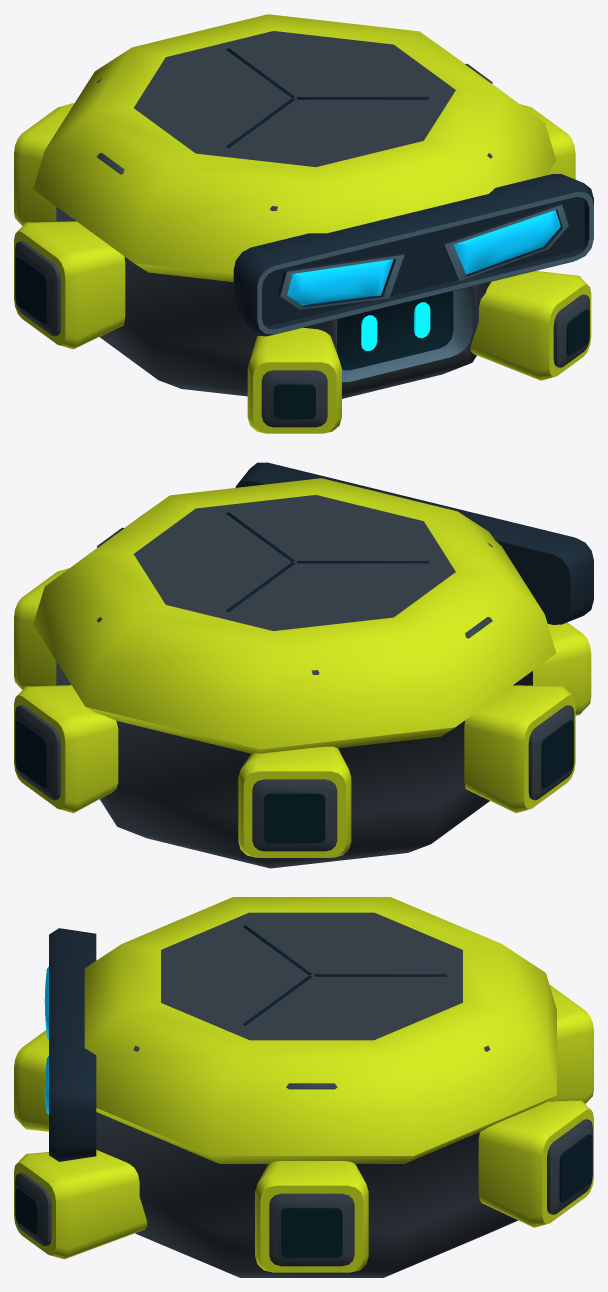
The model's file is copilot_linter_v01.glb.
3 views of the same model, one above another, from view 1: azimuth 30°, elevation 25°; view 2: azimuth 150°, elevation 25°; view 3: azimuth 270°, elevation 25° (orthographic).
Visible parts, largest first — view 1: linter_agent_model; view 2: linter_agent_model; view 3: linter_agent_model.
Part boxes in pixels (x1,y1,x2,y2): linter_agent_model: (14, 14, 593, 433); linter_agent_model: (14, 462, 593, 868); linter_agent_model: (14, 897, 593, 1277).
Bounding box in the file's own units: 2.58 × 1.08 × 2.45.
Materials: 2 (2 with a texture image).
